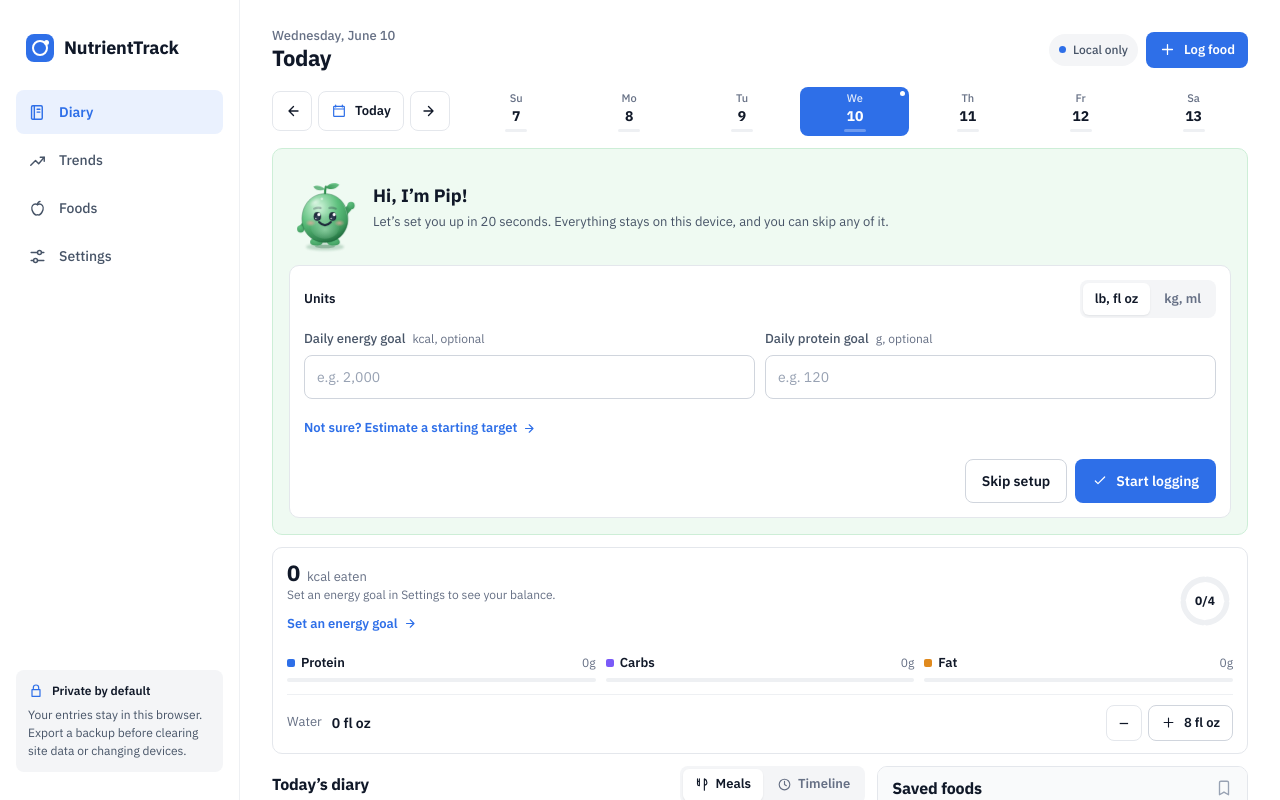
it: Log from outside the Diary uses today › prefills_today_and_saves_today_when_Log_is_tapped_in_Foods_after_viewing_a_past_day
Step 1. Click the button named "Previous day" → [292, 111], box 272,91 -> 312,131
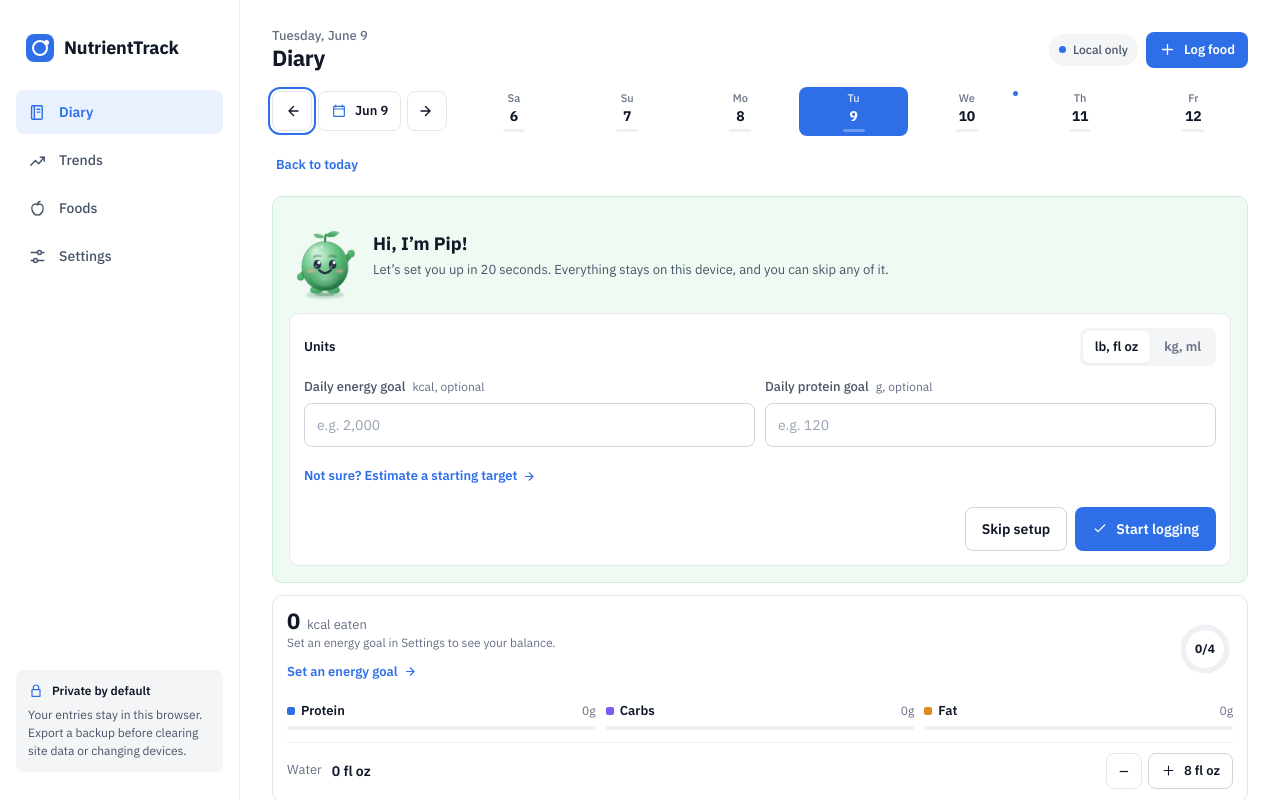
Step 2. Click the button "Foods" → [120, 208], box 16,186 -> 223,230
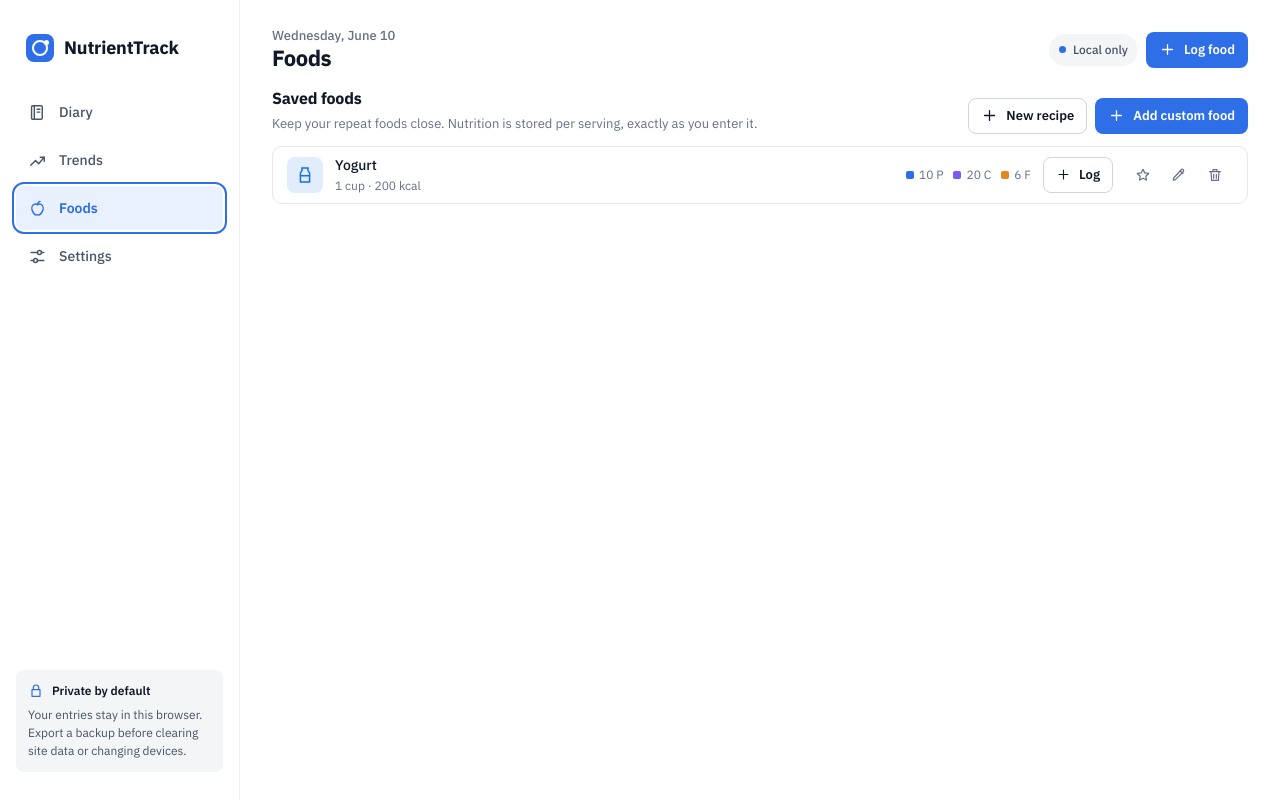
Step 3. Click the button "Log" → [1078, 175], box 1043,157 -> 1113,193
(page scrolled)
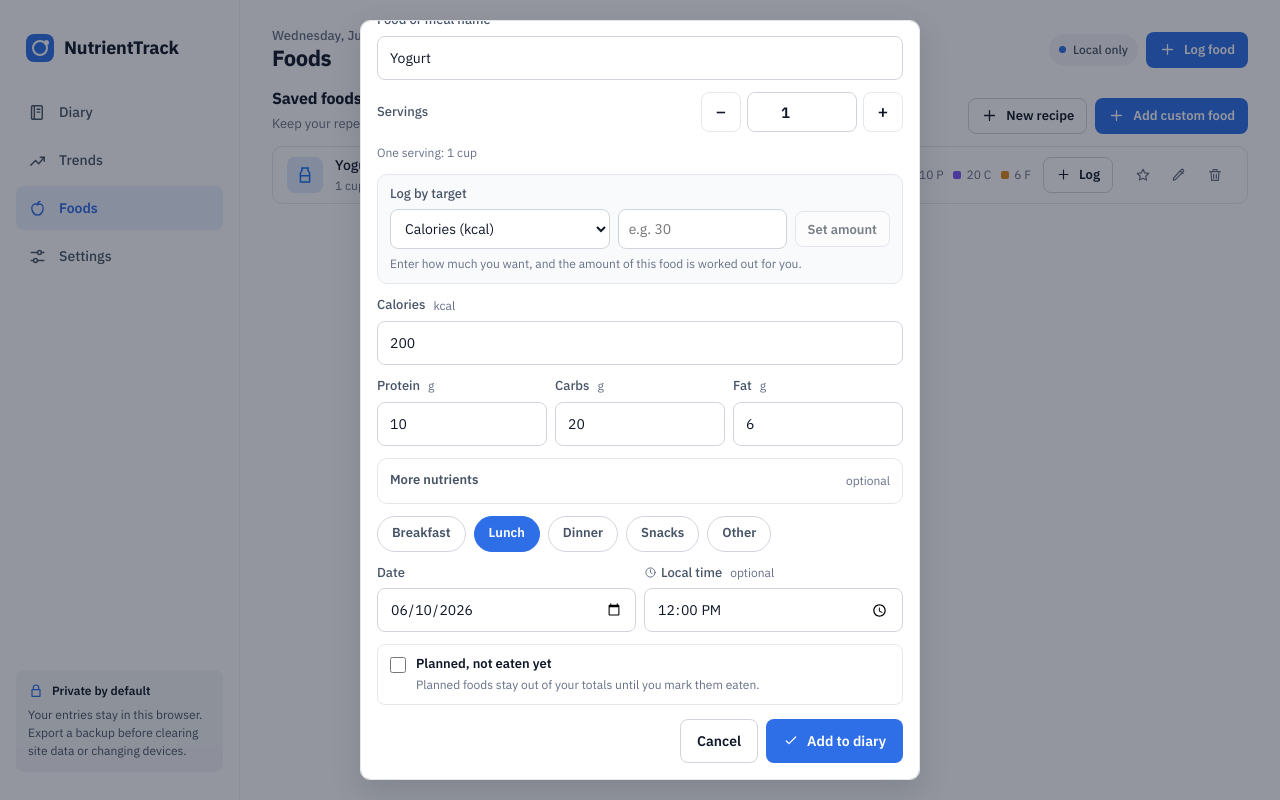
Step 4. Click the button "Add to diary" → [835, 741], box 766,719 -> 903,763
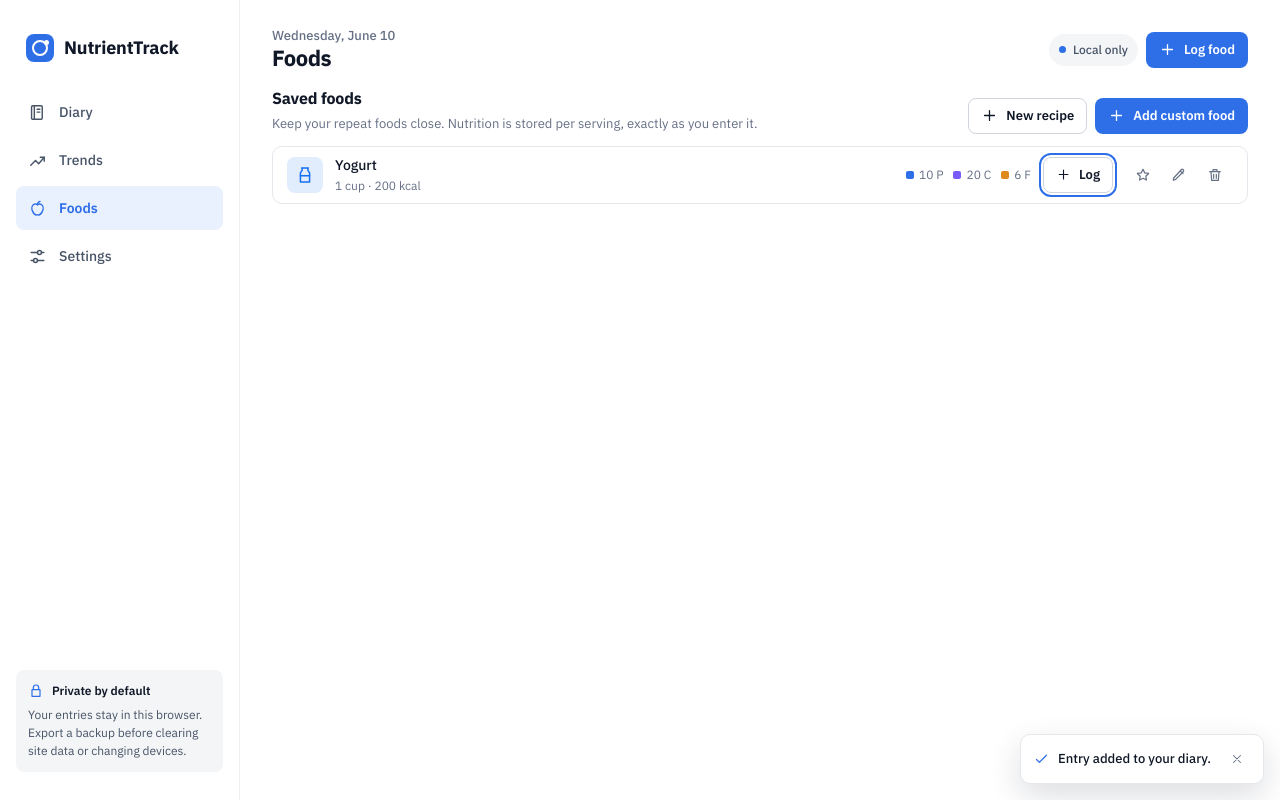
Expected: the element with class "toast" reads "Entry added to your diary.", 1058,750 -> 1211,767
